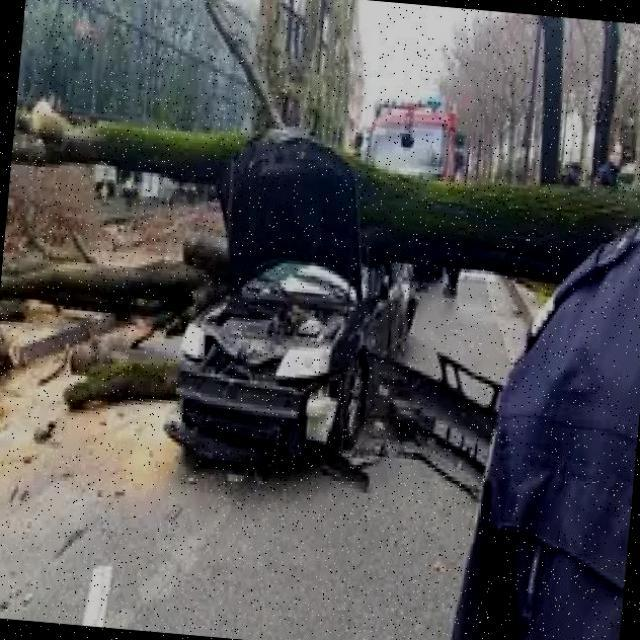accident: (146, 59, 451, 491)
